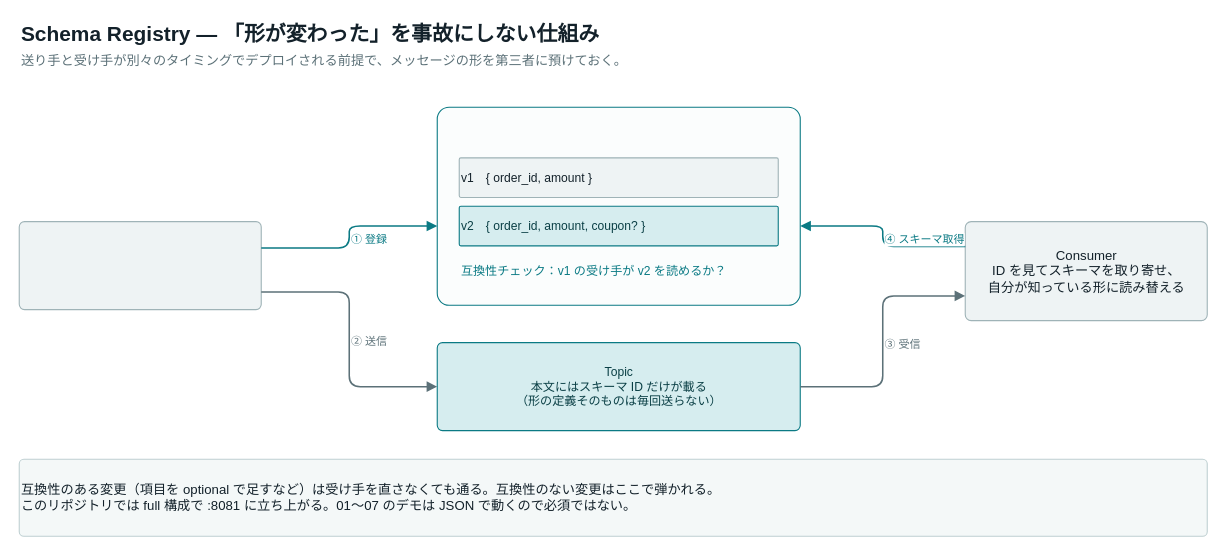
Image size: 1227x556. Some labels were removed from this diagram. The shapes that lost their labels are listed below. From the top down, each one's box as (x1, y1, x2, y2) in pixels, then its label:
(436, 106, 800, 305): Schema Registry :8081 スキーマの版を管理する
(18, 221, 261, 310): Producer スキーマを登録してから送る
